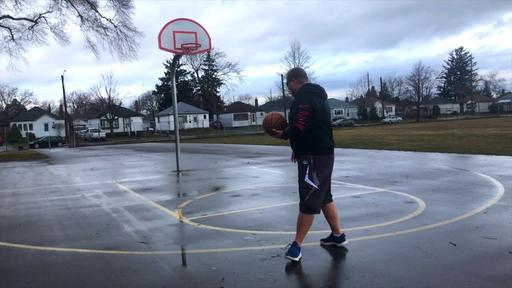ball: (262, 112, 286, 134)
human: (272, 68, 348, 262)
rim: (182, 42, 202, 70)
